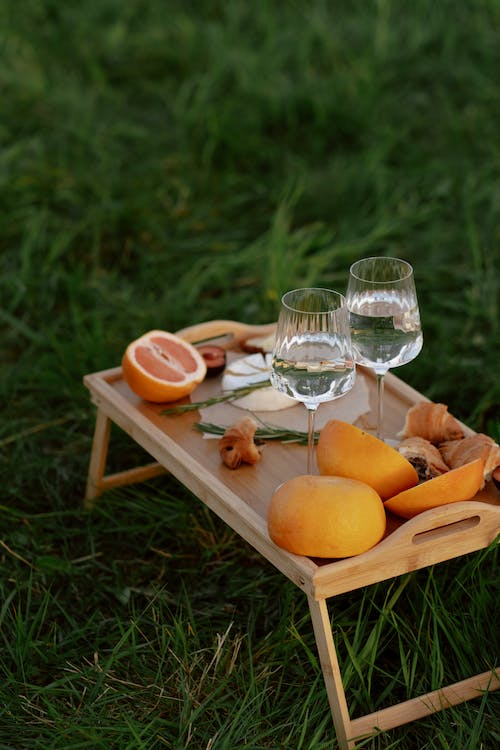alcohol: (268, 285, 358, 493), (344, 255, 425, 452)
